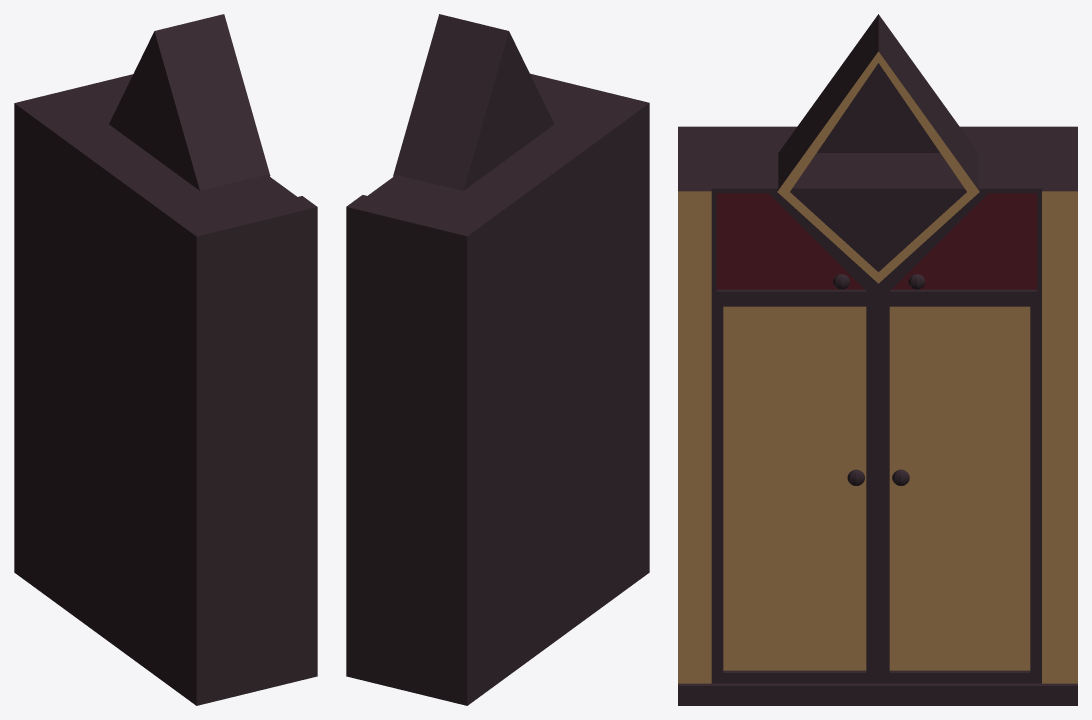
Rendered from LCarmario1.fbx.
3 renders of one model, left to right at view 1: azimuth 30°, elevation 25°; view 2: azimuth 150°, elevation 25°; view 3: azimuth 270°, elevation 25°, orthographic. The views are drawn at different scales.
Visible parts, largest first — view 1: Cube.043_Cube.093; view 2: Cube.043_Cube.093; view 3: Cube.043_Cube.093.
Part boxes in pixels (x1,y1,x2,y2): Cube.043_Cube.093: (14,14,317,705); Cube.043_Cube.093: (346,14,649,705); Cube.043_Cube.093: (678,14,1077,705).
Bounding box in the file's own units: 222 × 1044 × 579.
